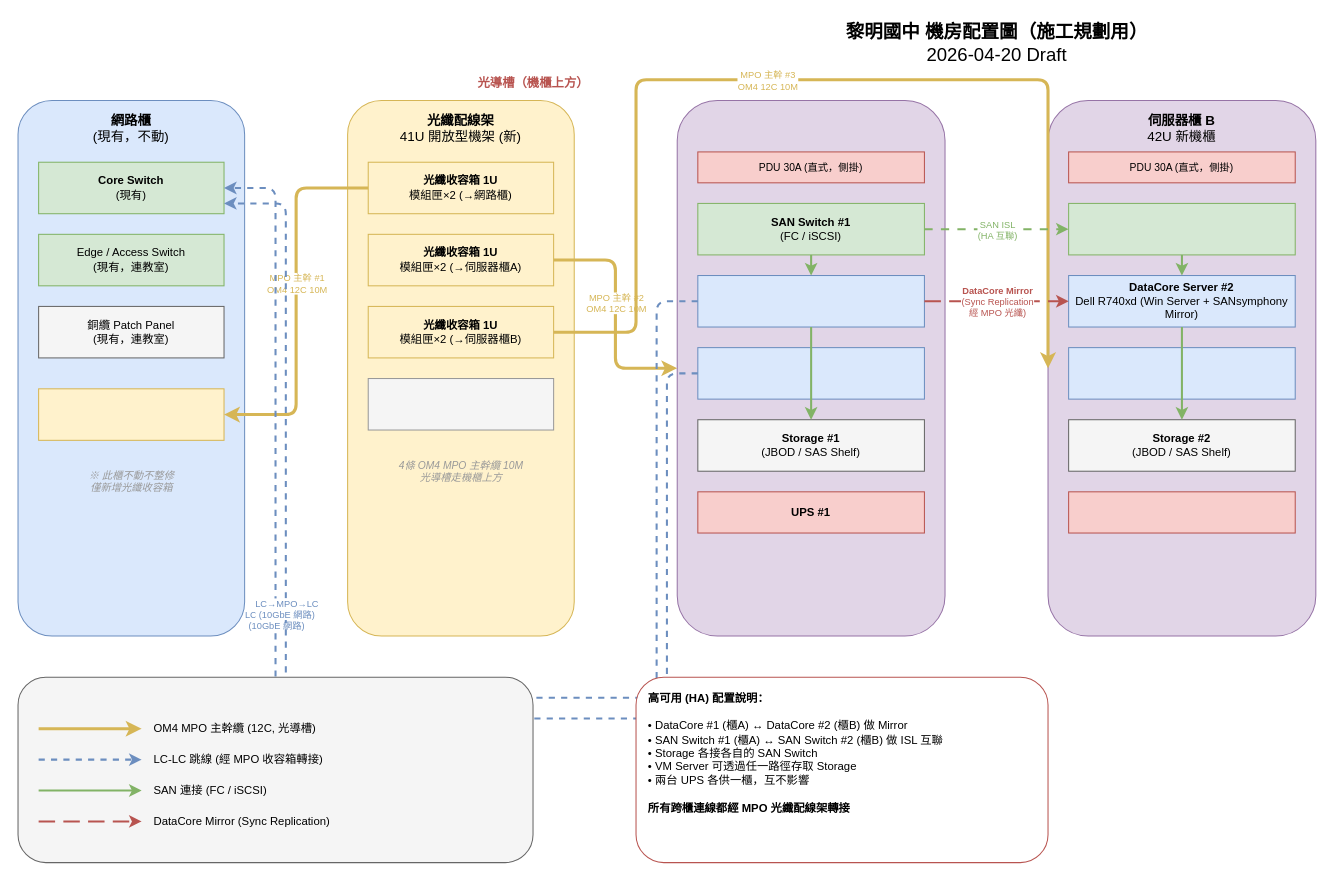
Image size: 1334x881. Some labels were removed from this diagram. The box of each missing label's shape, as (x1, y1, x2, y2) in pixels:
DataCore Server #1 Dell R760 (Win Server + SANsymphony): (697, 274, 924, 327)
SAN Switch #2 (FC / iSCSI): (1068, 202, 1295, 255)
UPS #2: (1068, 491, 1295, 533)
VM Server #1 (ESXi) Dell R660: (697, 347, 924, 399)
VM Server #2 (ESXi) Dell R630: (1068, 347, 1295, 399)
伺服器櫃 A 42U 新機櫃: (676, 99, 945, 636)
光纖收容箱 1U × 1 (新增，MPO→LC): (38, 388, 224, 440)
光纖收容箱 1U 模組匣×2 (備用): (367, 377, 554, 430)
圖例: (17, 676, 533, 863)
